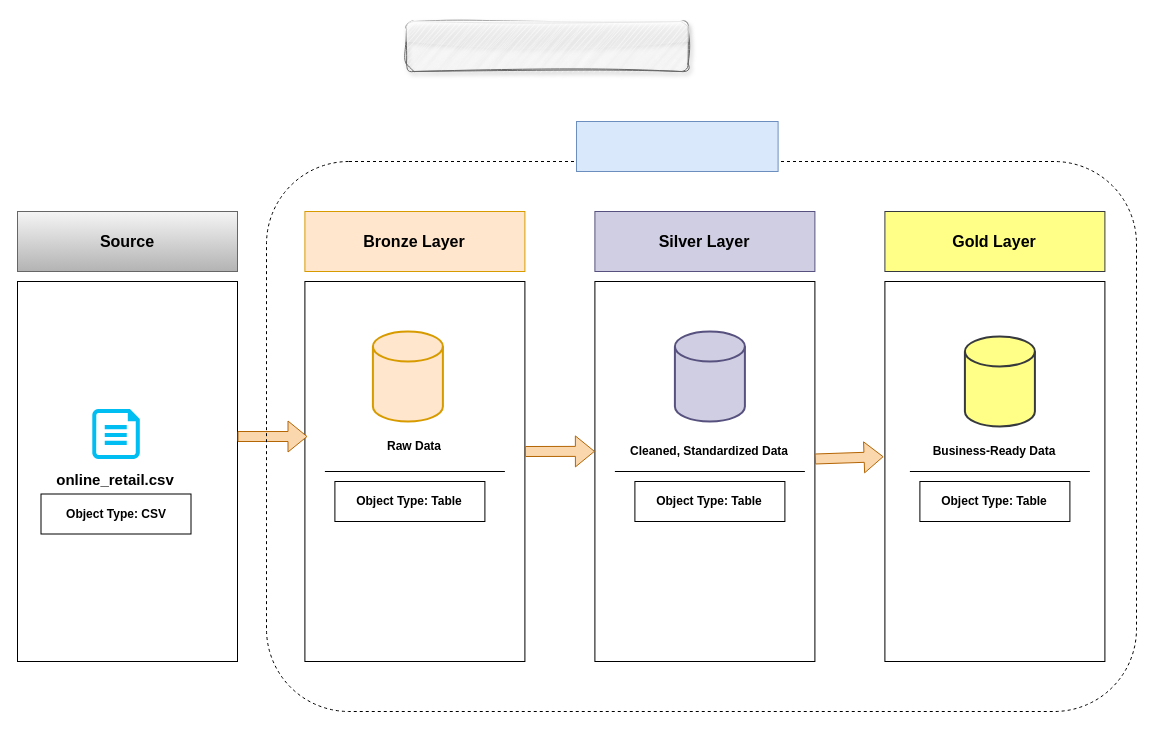
Some shapes in this 1154 by 729 pixel diagram are drawn without their labels. The centre of each missing label's shape, as x and y in pixels:
"Data Warehouse" belongs at point 677,146.
"High Level Architecture" belongs at point 548,47.
